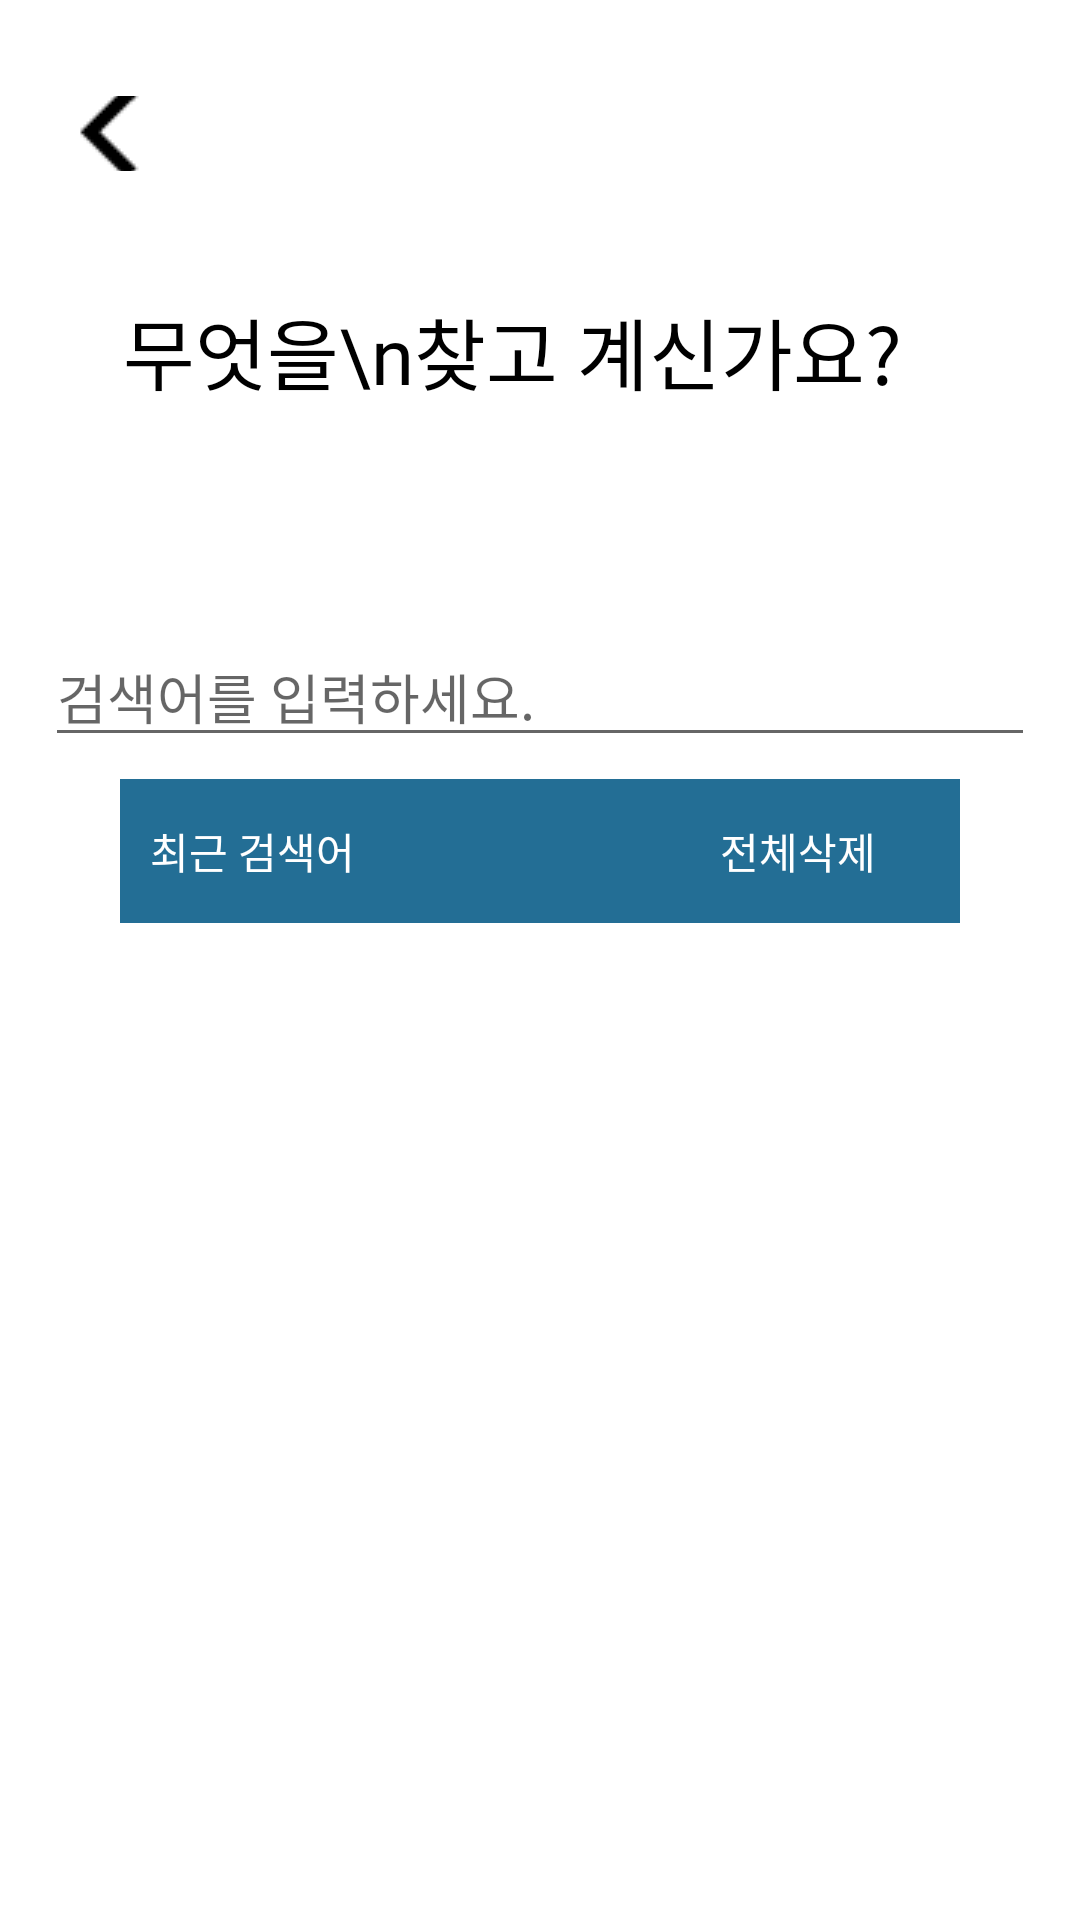

Locate icon controls on the screen. Image size 1080×1920, boxes as box(x1, y1, x2, y2).
back: box(80, 96, 138, 171)
